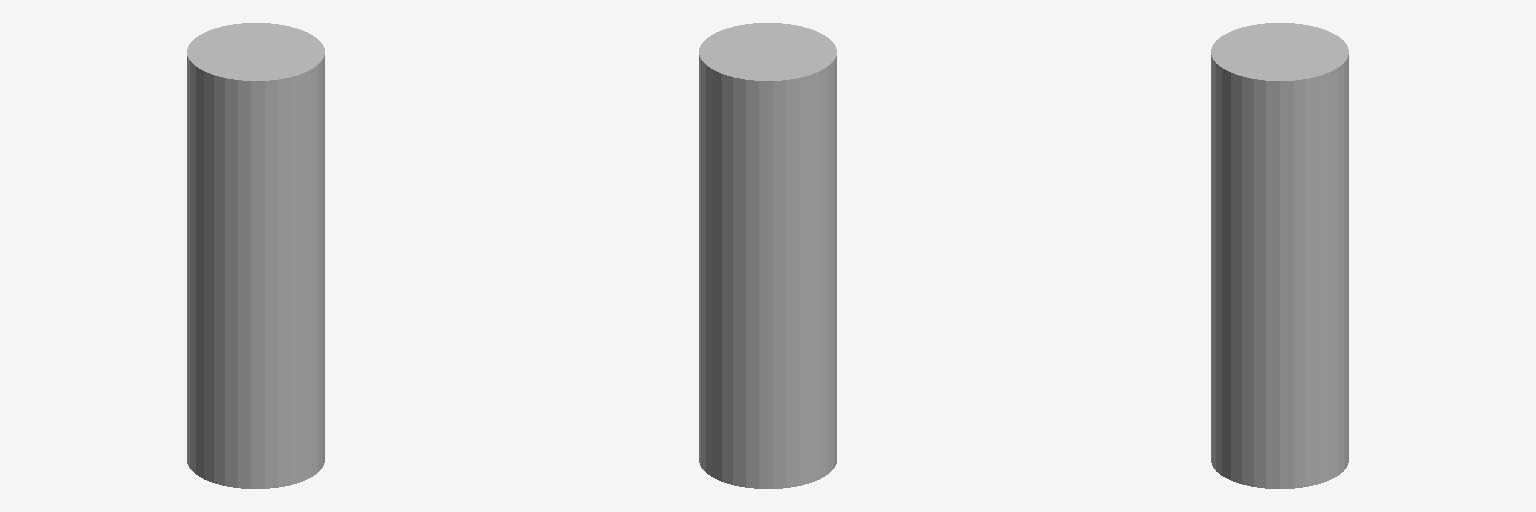
Rendered from pringles.obj.
3 views of the same model, side by side, from view 1: azimuth 30°, elevation 25°; view 2: azimuth 150°, elevation 25°; view 3: azimuth 270°, elevation 25° (orthographic).
Visible parts, largest first — view 1: Cylinder; view 2: Cylinder; view 3: Cylinder.
Part boxes in pixels (left/top/right/bottom): Cylinder: left=187, top=23, right=324, bottom=488; Cylinder: left=699, top=23, right=836, bottom=488; Cylinder: left=1211, top=23, right=1348, bottom=488.
Size of the model in its own units: 0.079 by 0.257 by 0.079.